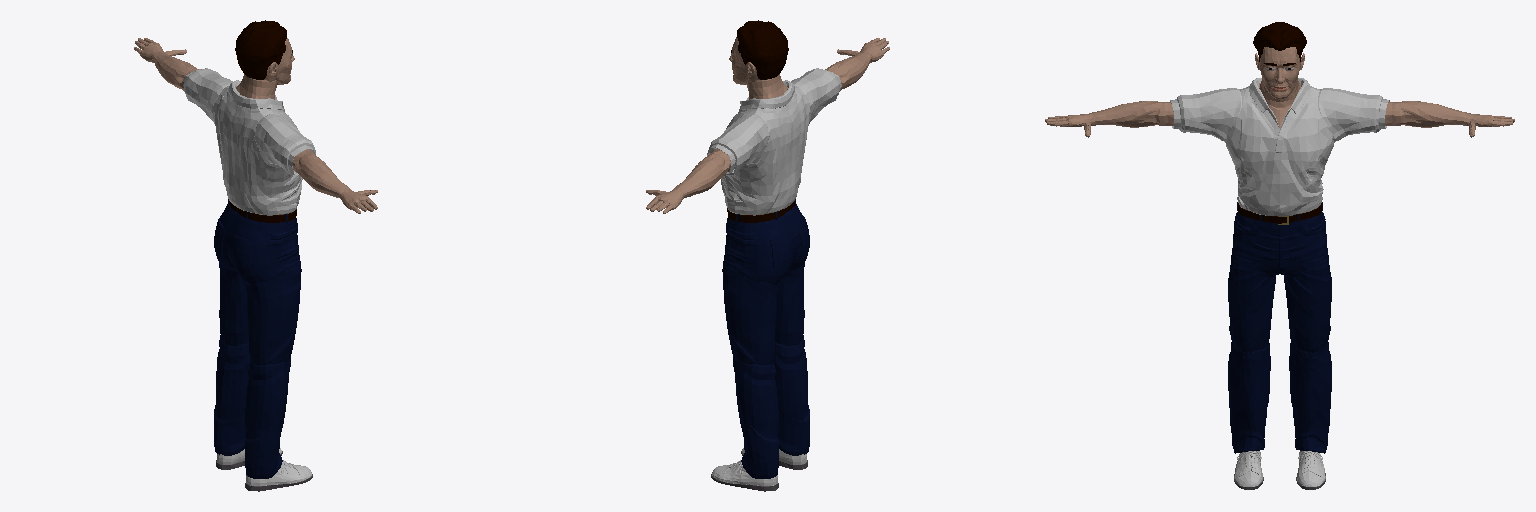
--- Facts derived from the render (not from the file) ---
The picture shows the robot from 3 angles, left to right: view 1: azimuth 30°, elevation 25°; view 2: azimuth 150°, elevation 25°; view 3: azimuth 270°, elevation 25°; orthographic projection.
Robot: HUMAN — 62 links, 61 joints (60 revolute, 1 fixed); root link base_link; default pose: every joint at zero.
Links seen in each view (by area): view 1: TorsoLink, HipsLink, RShinLink, RLegLink, LShinLink, HeadLink, RArmLink, LLegLink, LArmLink, RForearmLink, RAnkleLink, LForearmLink; view 2: TorsoLink, HipsLink, LShinLink, LLegLink, RShinLink, HeadLink, LArmLink, RLegLink, RArmLink, LForearmLink, LAnkleLink, RForearmLink; view 3: TorsoLink, HipsLink, LShinLink, RShinLink, RLegLink, LLegLink, HeadLink, RArmLink, LArmLink, LForearmLink, RForearmLink, LAnkleLink (+1 smaller).
Boxes of the visible links, x1=… form: TorsoLink: x1=213, y1=74, x2=302, y2=215; HipsLink: x1=214, y1=199, x2=300, y2=284; RShinLink: x1=245, y1=357, x2=290, y2=478; RLegLink: x1=244, y1=265, x2=301, y2=364; LShinLink: x1=214, y1=335, x2=250, y2=455; HeadLink: x1=235, y1=20, x2=294, y2=84; RArmLink: x1=254, y1=114, x2=315, y2=175; LLegLink: x1=219, y1=263, x2=248, y2=345; LArmLink: x1=183, y1=68, x2=232, y2=123; RForearmLink: x1=295, y1=153, x2=350, y2=198; RAnkleLink: x1=245, y1=460, x2=312, y2=491; LForearmLink: x1=152, y1=52, x2=195, y2=90; TorsoLink: x1=721, y1=74, x2=810, y2=215; HipsLink: x1=723, y1=199, x2=809, y2=284; LShinLink: x1=733, y1=357, x2=778, y2=478; LLegLink: x1=722, y1=265, x2=779, y2=364; RShinLink: x1=773, y1=335, x2=809, y2=455; HeadLink: x1=729, y1=20, x2=788, y2=84; LArmLink: x1=707, y1=114, x2=769, y2=174; RLegLink: x1=775, y1=263, x2=804, y2=345; RArmLink: x1=791, y1=68, x2=841, y2=123; LForearmLink: x1=673, y1=153, x2=728, y2=198; LAnkleLink: x1=711, y1=460, x2=778, y2=491; RForearmLink: x1=828, y1=52, x2=871, y2=90; TorsoLink: x1=1225, y1=64, x2=1334, y2=216; HipsLink: x1=1232, y1=202, x2=1327, y2=277; LShinLink: x1=1289, y1=342, x2=1331, y2=453; RShinLink: x1=1228, y1=342, x2=1270, y2=453; RLegLink: x1=1228, y1=255, x2=1275, y2=352; LLegLink: x1=1284, y1=255, x2=1331, y2=352; HeadLink: x1=1253, y1=22, x2=1306, y2=98; RArmLink: x1=1170, y1=88, x2=1241, y2=141; LArmLink: x1=1318, y1=88, x2=1389, y2=141; LForearmLink: x1=1396, y1=101, x2=1469, y2=127; RForearmLink: x1=1090, y1=101, x2=1163, y2=127; LAnkleLink: x1=1296, y1=451, x2=1325, y2=489.
Bounding box of the posed robot: 0.2779 × 1.61 × 1.69 m (x, y, z).
47 mesh visuals loaded from 47 distinct referenced files (47 Collada DAE).

The robot description file, URDF, robot "HUMAN":
<?xml version="1.0" ?>
<robot name="HUMAN" xmlns:xacro="http://ros.org/wiki/xacro">
  
  <link name="base_link"/>

  <joint name="base" type="fixed">
    <parent link="base_link"/>
    <child link="HipsLink"/>
    <origin rpy="0 0 0" xyz="0 0 0.987"/>
  </joint>

  <!-- Body Links -->
  <link name="HipsLink">
    <inertial>
      <origin rpy="0 0 0" xyz="-0.0232 0.0 -0.1192"/>
      <mass value="20.9238"/>
      <inertia ixx="-0.3225" ixy="-0.0" ixz="-0.0" iyy="0.0" iyz="0.2362" izz="0.0"/>
    </inertial>
    <visual>
      <origin rpy="0 0 0" xyz="0 0 0"/>
      <geometry>
        <mesh filename="package://human_description/meshes/HipsLinkFull.dae"/>
      </geometry>
    </visual>
    <collision>
      <origin rpy="0 0 0" xyz="0 0 0"/>
      <geometry>
        <mesh filename="package://human_description/meshes/HipsLinkFull.dae"/>
      </geometry>
    </collision>
  </link>

  <link name="TorsoLink">
    <inertial>
      <origin rpy="0 0 0" xyz="-0.1334 0.1949 0.4701"/>
      <mass value="10.7790"/>
      <inertia ixx="-0.3481" ixy="-0.0" ixz="-0.0" iyy="0.0" iyz="0.2709" izz="0.0"/>
    </inertial>
    <visual>
      <origin rpy="0 0 0" xyz="0 0 0"/>
      <geometry>
        <mesh filename="package://human_description/meshes/TorsoLinkFull.dae"/>
      </geometry>
    </visual>
    <collision>
      <origin rpy="0 0 0" xyz="0 0 0"/>
      <geometry>
        <mesh filename="package://human_description/meshes/TorsoLinkFull.dae"/>
      </geometry>
    </collision>
  </link>

  <link name="HeadLink">
    <inertial>
      <origin rpy="0 0 0" xyz="0.0459 0.0133 0.0433"/>
      <mass value="4.7372"/>
      <inertia ixx="-0.1891" ixy="-0.0" ixz="-0.0" iyy="0.0" iyz="0.1891" izz="0.0"/>
    </inertial>
    <visual>
      <origin rpy="0 0 0" xyz="0 0 0"/>
      <geometry>
        <mesh filename="package://human_description/meshes/HeadLinkFull.dae"/>
      </geometry>
    </visual>
    <collision>
      <origin rpy="0 0 0" xyz="0 0 0"/>
      <geometry>
        <mesh filename="package://human_description/meshes/HeadLinkFull.dae"/>
      </geometry>
    </collision>
  </link>

  <link name="LArmLink">
    <inertial>
      <origin rpy="0 0 0" xyz="-0.0 0.1328 0.0"/>
      <mass value="1.96"/>
      <inertia ixx="-0.3475" ixy="-0.0" ixz="-0.0" iyy="0.0" iyz="0.6719" izz="0.0"/>
    </inertial>
    <visual>
      <origin rpy="0 0 0" xyz="0 0 0"/>
      <geometry>
        <mesh filename="package://human_description/meshes/LArmLinkFull.dae"/>
      </geometry>
    </visual>
    <collision>
      <origin rpy="0 0 0" xyz="0 0 0"/>
      <geometry>
        <mesh filename="package://human_description/meshes/LArmLinkFull.dae"/>
      </geometry>
    </collision>
  </link>

  <link name="LElbowLink">
    <inertial>
      <origin rpy="0 0 0" xyz="0.000513 0.034528 -0.000934"/>
      <mass value="0.25"/>
      <inertia ixx="-5.9e-05" ixy="-0.0" ixz="-0.0" iyy="0.0" iyz="8e-05" izz="0.0"/>
    </inertial>
    <visual>
      <origin rpy="0 0 0" xyz="0 0 0"/>
      <geometry>
        <mesh filename="package://human_description/meshes/LElbowLink.dae"/>
      </geometry>
    </visual>
    <collision>
      <origin rpy="0 0 0" xyz="0 0 0"/>
      <geometry>
        <mesh filename="package://human_description/meshes/LElbowLink.dae"/>
      </geometry>
    </collision>
  </link>

  <link name="LForearmLink">
    <inertial>
      <origin rpy="0 0 0" xyz="-0.0 0.15114 0.0"/>
      <mass value="1.18"/>
      <inertia ixx="-0.0753" ixy="-0.0" ixz="-0.0" iyy="0.0" iyz="0.1326" izz="0.0"/>
    </inertial>
    <visual>
      <origin rpy="0 0 0" xyz="0 0 0"/>
      <geometry>
        <mesh filename="package://human_description/meshes/LForearmLink.dae"/>
      </geometry>
    </visual>
    <collision>
      <origin rpy="0 0 0" xyz="0 0 0"/>
      <geometry>
        <mesh filename="package://human_description/meshes/LForearmLink.dae"/>
      </geometry>
    </collision>
  </link>

  <link name="LHandLink">
    <inertial>
      <origin rpy="0 0 0" xyz="0.0139 0.042 -0.0128"/>
      <mass value="0.272"/>
      <inertia ixx="-0.00029946" ixy="-0.0" ixz="-0.0" iyy="0.0" iyz="0.00019118" izz="0.0"/>
    </inertial>
    <visual>
      <origin rpy="0 0 0" xyz="0 0 0"/>
      <geometry>
        <mesh filename="package://human_description/meshes/LWrist.dae"/>
      </geometry>
    </visual>
    <collision>
      <origin rpy="0 0 0" xyz="0 0 0"/>
      <geometry>
        <mesh filename="package://human_description/meshes/LWrist.dae"/>
      </geometry>
    </collision>
  </link>

  <link name="RArmLink">
    <inertial>
      <origin rpy="0 0 0" xyz="-0.0 -0.1328 0.0"/>
      <mass value="1.96"/>
      <inertia ixx="-0.3475" ixy="-0.0" ixz="-0.0" iyy="0.0" iyz="0.6719" izz="0.0"/>
    </inertial>
    <visual>
      <origin rpy="0 0 0" xyz="0 0 0"/>
      <geometry>
        <mesh filename="package://human_description/meshes/RArmLinkFull.dae"/>
      </geometry>
    </visual>
    <collision>
      <origin rpy="0 0 0" xyz="0 0 0"/>
      <geometry>
        <mesh filename="package://human_description/meshes/RArmLinkFull.dae"/>
      </geometry>
    </collision>
  </link>

  <link name="RElbowLink">
    <inertial>
      <origin rpy="0 0 0" xyz="0.000513 -0.034528 -0.000934"/>
      <mass value="0.25"/>
      <inertia ixx="-5.9e-05" ixy="-0.0" ixz="-0.0" iyy="0.0" iyz="8e-05" izz="0.0"/>
    </inertial>
    <visual>
      <origin rpy="0 0 0" xyz="0 0 0"/>
      <geometry>
        <mesh filename="package://human_description/meshes/RElbowLink.dae"/>
      </geometry>
    </visual>
    <collision>
      <origin rpy="0 0 0" xyz="0 0 0"/>
      <geometry>
        <mesh filename="package://human_description/meshes/RElbowLink.dae"/>
      </geometry>
    </collision>
  </link>

  <link name="RForearmLink">
    <inertial>
      <origin rpy="0 0 0" xyz="-0.0 -0.15114 0.0"/>
      <mass value="1.18"/>
      <inertia ixx="-0.0753" ixy="-0.0" ixz="-0.0" iyy="0.0" iyz="0.1326" izz="0.0"/>
    </inertial>
    <visual>
      <origin rpy="0 0 0" xyz="0 0 0"/>
      <geometry>
        <mesh filename="package://human_description/meshes/RForearmLink.dae"/>
      </geometry>
    </visual>
    <collision>
      <origin rpy="0 0 0" xyz="0 0 0"/>
      <geometry>
        <mesh filename="package://human_description/meshes/RForearmLink.dae"/>
      </geometry>
    </collision>
  </link>

  <link name="RHandLink">
    <inertial>
      <origin rpy="0 0 0" xyz="0.0139 -0.042 -0.0128"/>
      <mass value="0.272"/>
      <inertia ixx="-0.00029946" ixy="-0.0" ixz="-0.0" iyy="0.0" iyz="0.00019118" izz="0.0"/>
    </inertial>
    <visual>
      <origin rpy="0 0 0" xyz="0 0 0"/>
      <geometry>
        <mesh filename="package://human_description/meshes/RWrist.dae"/>
      </geometry>
    </visual>
    <collision>
      <origin rpy="0 0 0" xyz="0 0 0"/>
      <geometry>
        <mesh filename="package://human_description/meshes/RWrist.dae"/>
      </geometry>
    </collision>
  </link>

  <link name="LLegLink">
    <inertial>
      <origin rpy="0 0 0" xyz="-0.0185 -0.0071 -0.178"/>
      <mass value="6.51"/>
      <inertia ixx="-0.1264" ixy="-0.0" ixz="-0.0" iyy="0.0" iyz="0.1264" izz="0.0"/>
    </inertial>
    <visual>
      <origin rpy="0 0 0" xyz="0 0 0"/>
      <geometry>
        <mesh filename="package://human_description/meshes/LLegLink.dae"/>
      </geometry>
    </visual>
    <collision>
      <origin rpy="0 0 0" xyz="0 0 0"/>
      <geometry>
        <mesh filename="package://human_description/meshes/LLegLink.dae"/>
      </geometry>
    </collision>
  </link>

  <link name="LShinLink">
    <inertial>
      <origin rpy="0 0 0" xyz="-0.0131 0.0025 0.0346"/>
      <mass value="3.095"/>
      <inertia ixx="-0.0632" ixy="-0.0" ixz="-0.0" iyy="0.0" iyz="0.0632" izz="0.0"/>
    </inertial>
    <visual>
      <origin rpy="0 0 0" xyz="0 0 0"/>
      <geometry>
        <mesh filename="package://human_description/meshes/LShinLink.dae"/>
      </geometry>
    </visual>
    <collision>
      <origin rpy="0 0 0" xyz="0 0 0"/>
      <geometry>
        <mesh filename="package://human_description/meshes/LShinLink.dae"/>
      </geometry>
    </collision>
  </link>

  <link name="LAnkleLink">
    <inertial>
      <origin rpy="0 0 0" xyz="0.0508 0.0067 -0.0646"/>
      <mass value="0.99"/>
      <inertia ixx="-0.0015" ixy="-0.0" ixz="-0.0" iyy="0.0" iyz="0.0059" izz="0.0"/>
    </inertial>
    <visual>
      <origin rpy="0 0 0" xyz="0 0 0"/>
      <geometry>
        <mesh filename="package://human_description/meshes/LAnkleLinkFull.dae"/>
      </geometry>
    </visual>
    <collision>
      <origin rpy="0 0 0" xyz="0 0 0"/>
      <geometry>
        <mesh filename="package://human_description/meshes/LAnkleLinkFull.dae"/>
      </geometry>
    </collision>
  </link>

  <link name="RLegLink">
    <inertial>
      <origin rpy="0 0 0" xyz="-0.0185 -0.0071 -0.178"/>
      <mass value="6.51"/>
      <inertia ixx="-0.1264" ixy="-0.0" ixz="-0.0" iyy="0.0" iyz="0.1264" izz="0.0"/>
    </inertial>
    <visual>
      <origin rpy="0 0 0" xyz="0 0 0"/>
      <geometry>
        <mesh filename="package://human_description/meshes/RLegLink.dae"/>
      </geometry>
    </visual>
    <collision>
      <origin rpy="0 0 0" xyz="0 0 0"/>
      <geometry>
        <mesh filename="package://human_description/meshes/RLegLink.dae"/>
      </geometry>
    </collision>
  </link>

  <link name="RShinLink">
    <inertial>
      <origin rpy="0 0 0" xyz="-0.0131 0.0025 0.0346"/>
      <mass value="3.095"/>
      <inertia ixx="-0.0632" ixy="-0.0" ixz="-0.0" iyy="0.0" iyz="0.0632" izz="0.0"/>
    </inertial>
    <visual>
      <origin rpy="0 0 0" xyz="0 0 0"/>
      <geometry>
        <mesh filename="package://human_description/meshes/RShinLink.dae"/>
      </geometry>
    </visual>
    <collision>
      <origin rpy="0 0 0" xyz="0 0 0"/>
      <geometry>
        <mesh filename="package://human_description/meshes/RShinLink.dae"/>
      </geometry>
    </collision>
  </link>

  <link name="RAnkleLink">
    <inertial>
      <origin rpy="0 0 0" xyz="0.0508 -0.0067 -0.0646"/>
      <mass value="0.99"/>
      <inertia ixx="-0.0015" ixy="-0.0" ixz="-0.0" iyy="0.0" iyz="0.0059" izz="0.0"/>
    </inertial>
    <visual>
      <origin rpy="0 0 0" xyz="0 0 0"/>
      <geometry>
        <mesh filename="package://human_description/meshes/RAnkleLinkFull.dae"/>
      </geometry>
    </visual>
    <collision>
      <origin rpy="0 0 0" xyz="0 0 0"/>
      <geometry>
        <mesh filename="package://human_description/meshes/RAnkleLinkFull.dae"/>
      </geometry>
    </collision>
  </link>

  <!-- Left hand fingers links -->
  <link name="LHandThumb0Link">
    <inertial>
      <origin rpy="0 0 0" xyz="0.019337 0.003385 -0.004077"/>
      <mass value="0.0182"/>
      <inertia ixx="-9e-06" ixy="-0.0" ixz="-0.0" iyy="0.0" iyz="1e-05" izz="0.0"/>
    </inertial>
    <visual>
      <origin rpy="0 0 0" xyz="0 0 0"/>
      <geometry>
        <mesh filename="package://human_description/meshes/LThumb0thPhalange.dae"/>
      </geometry>
    </visual>
    <collision>
      <origin rpy="0 0 0" xyz="0 0 0"/>
      <geometry>
        <mesh filename="package://human_description/meshes/LThumb0thPhalange.dae"/>
      </geometry>
    </collision>
  </link>
  <link name="LHandThumb1Link">
    <inertial>
      <origin rpy="0 0 0" xyz="0.01028 0.001082 0.002081"/>
      <mass value="0.0182"/>
      <inertia ixx="-4e-06" ixy="-0.0" ixz="-0.0" iyy="0.0" iyz="4e-06" izz="0.0"/>
    </inertial>
    <visual>
      <origin rpy="0 0 0" xyz="0 0 0"/>
      <geometry>
        <mesh filename="package://human_description/meshes/LThumb1stPhalange.dae"/>
      </geometry>
    </visual>
    <collision>
      <origin rpy="0 0 0" xyz="0 0 0"/>
      <geometry>
        <mesh filename="package://human_description/meshes/LThumb1stPhalange.dae"/>
      </geometry>
    </collision>
  </link>
  <link name="LHandThumb2Link">
    <inertial>
      <origin rpy="0 0 0" xyz="0.016873 0.000626 -0.001112"/>
      <mass value="0.0182"/>
      <inertia ixx="-4e-06" ixy="-0.0" ixz="-0.0" iyy="0.0" iyz="4e-06" izz="0.0"/>
    </inertial>
    <visual>
      <origin rpy="0 0 0" xyz="0 0 0"/>
      <geometry>
        <mesh filename="package://human_description/meshes/LThumb2ndPhalange.dae"/>
      </geometry>
    </visual>
    <collision>
      <origin rpy="0 0 0" xyz="0 0 0"/>
      <geometry>
        <mesh filename="package://human_description/meshes/LThumb2ndPhalange.dae"/>
      </geometry>
    </collision>
  </link>
  <link name="LHandIndex1Link">
    <inertial>
      <origin rpy="0 0 0" xyz="-0.001367 0.01696 0.001019"/>
      <mass value="0.0182"/>
      <inertia ixx="-5e-06" ixy="-0.0" ixz="-0.0" iyy="0.0" iyz="5e-06" izz="0.0"/>
    </inertial>
    <visual>
      <origin rpy="0 0 0" xyz="0 0 0"/>
      <geometry>
        <mesh filename="package://human_description/meshes/LIndex1stPhalange.dae"/>
      </geometry>
    </visual>
    <collision>
      <origin rpy="0 0 0" xyz="0 0 0"/>
      <geometry>
        <mesh filename="package://human_description/meshes/LIndex1stPhalange.dae"/>
      </geometry>
    </collision>
  </link>
  <link name="LHandIndex2Link">
    <inertial>
      <origin rpy="0 0 0" xyz="0.000441 0.009184 0.000856"/>
      <mass value="0.0182"/>
      <inertia ixx="-3e-06" ixy="-0.0" ixz="-0.0" iyy="0.0" iyz="3e-06" izz="0.0"/>
    </inertial>
    <visual>
      <origin rpy="0 0 0" xyz="0 0 0"/>
      <geometry>
        <mesh filename="package://human_description/meshes/LIndex2ndPhalange.dae"/>
      </geometry>
    </visual>
    <collision>
      <origin rpy="0 0 0" xyz="0 0 0"/>
      <geometry>
        <mesh filename="package://human_description/meshes/LIndex2ndPhalange.dae"/>
      </geometry>
    </collision>
  </link>
  <link name="LHandIndex3Link">
    <inertial>
      <origin rpy="0 0 0" xyz="-0.001129 0.010116 0.001347"/>
      <mass value="0.0182"/>
      <inertia ixx="-2e-06" ixy="-0.0" ixz="-0.0" iyy="0.0" iyz="2e-06" izz="0.0"/>
    </inertial>
    <visual>
      <origin rpy="0 0 0" xyz="0 0 0"/>
      <geometry>
        <mesh filename="package://human_description/meshes/LIndex3rdPhalange.dae"/>
      </geometry>
    </visual>
    <collision>
      <origin rpy="0 0 0" xyz="0 0 0"/>
      <geometry>
        <mesh filename="package://human_description/meshes/LIndex3rdPhalange.dae"/>
      </geometry>
    </collision>
  </link>
  <link name="LHandMiddle1Link">
    <inertial>
      <origin rpy="0 0 0" xyz="-0.000126 0.013279 0.000876"/>
      <mass value="0.0182"/>
      <inertia ixx="-3e-06" ixy="-0.0" ixz="-0.0" iyy="0.0" iyz="4e-06" izz="0.0"/>
    </inertial>
    <visual>
      <origin rpy="0 0 0" xyz="0 0 0"/>
      <geometry>
        <mesh filename="package://human_description/meshes/LMiddle1stPhalange.dae"/>
      </geometry>
    </visual>
    <collision>
      <origin rpy="0 0 0" xyz="0 0 0"/>
      <geometry>
        <mesh filename="package://human_description/meshes/LMiddle1stPhalange.dae"/>
      </geometry>
    </collision>
  </link>
  <link name="LHandMiddle2Link">
    <inertial>
      <origin rpy="0 0 0" xyz="-0.000232 0.010285 0.001535"/>
      <mass value="0.0182"/>
      <inertia ixx="-3e-06" ixy="-0.0" ixz="-0.0" iyy="0.0" iyz="3e-06" izz="0.0"/>
    </inertial>
    <visual>
      <origin rpy="0 0 0" xyz="0 0 0"/>
      <geometry>
        <mesh filename="package://human_description/meshes/LMiddle2ndPhalange.dae"/>
      </geometry>
    </visual>
    <collision>
      <origin rpy="0 0 0" xyz="0 0 0"/>
      <geometry>
        <mesh filename="package://human_description/meshes/LMiddle2ndPhalange.dae"/>
      </geometry>
    </collision>
  </link>
  <link name="LHandMiddle3Link">
    <inertial>
      <origin rpy="0 0 0" xyz="-0.000228 0.009327 0.001888"/>
      <mass value="0.0182"/>
      <inertia ixx="-2e-06" ixy="-0.0" ixz="-0.0" iyy="0.0" iyz="2e-06" izz="0.0"/>
    </inertial>
    <visual>
      <origin rpy="0 0 0" xyz="0 0 0"/>
      <geometry>
        <mesh filename="package://human_description/meshes/LMiddle3rdPhalange.dae"/>
      </geometry>
    </visual>
    <collision>
      <origin rpy="0 0 0" xyz="0 0 0"/>
      <geometry>
        <mesh filename="package://human_description/meshes/LMiddle3rdPhalange.dae"/>
      </geometry>
    </collision>
  </link>
  <link name="LHandRing1Link">
    <inertial>
      <origin rpy="0 0 0" xyz="-0.001164 0.011568 -0.002292"/>
      <mass value="0.0182"/>
      <inertia ixx="-3e-06" ixy="-0.0" ixz="-0.0" iyy="0.0" iyz="4e-06" izz="0.0"/>
    </inertial>
    <visual>
      <origin rpy="0 0 0" xyz="0 0 0"/>
      <geometry>
        <mesh filename="package://human_description/meshes/LRing1stPhalange.dae"/>
      </geometry>
    </visual>
    <collision>
      <origin rpy="0 0 0" xyz="0 0 0"/>
      <geometry>
        <mesh filename="package://human_description/meshes/LRing1stPhalange.dae"/>
      </geometry>
    </collision>
  </link>
  <link name="LHandRing2Link">
    <inertial>
      <origin rpy="0 0 0" xyz="-0.000672 0.011883 0.001817"/>
      <mass value="0.0182"/>
      <inertia ixx="-3e-06" ixy="-0.0" ixz="-0.0" iyy="0.0" iyz="3e-06" izz="0.0"/>
    </inertial>
    <visual>
      <origin rpy="0 0 0" xyz="0 0 0"/>
      <geometry>
        <mesh filename="package://human_description/meshes/LRing2ndPhalange.dae"/>
      </geometry>
    </visual>
    <collision>
      <origin rpy="0 0 0" xyz="0 0 0"/>
      <geometry>
        <mesh filename="package://human_description/meshes/LRing2ndPhalange.dae"/>
      </geometry>
    </collision>
  </link>
  <link name="LHandRing3Link">
    <inertial>
      <origin rpy="0 0 0" xyz="0.000957 0.007793 0.000943"/>
      <mass value="0.0182"/>
      <inertia ixx="-1e-06" ixy="-0.0" ixz="-0.0" iyy="0.0" iyz="2e-06" izz="0.0"/>
    </inertial>
    <visual>
      <origin rpy="0 0 0" xyz="0 0 0"/>
      <geometry>
        <mesh filename="package://human_description/meshes/LRing3rdPhalange.dae"/>
      </geometry>
    </visual>
    <collision>
      <origin rpy="0 0 0" xyz="0 0 0"/>
      <geometry>
        <mesh filename="package://human_description/meshes/LRing3rdPhalange.dae"/>
      </geometry>
    </collision>
  </link>
  <link name="LHandBaby1Link">
    <inertial>
      <origin rpy="0 0 0" xyz="-0.000982 0.009799 0.000912"/>
      <mass value="0.0182"/>
      <inertia ixx="-2e-06" ixy="-0.0" ixz="-0.0" iyy="0.0" iyz="3e-06" izz="0.0"/>
    </inertial>
    <visual>
      <origin rpy="0 0 0" xyz="0 0 0"/>
      <geometry>
        <mesh filename="package://human_description/meshes/LBaby1stPhalange.dae"/>
      </geometry>
    </visual>
    <collision>
      <origin rpy="0 0 0" xyz="0 0 0"/>
      <geometry>
        <mesh filename="package://human_description/meshes/LBaby1stPhalange.dae"/>
      </geometry>
    </collision>
  </link>
  <link name="LHandBaby2Link">
    <inertial>
      <origin rpy="0 0 0" xyz="-0.000602 0.009315 0.001953"/>
      <mass value="0.0182"/>
      <inertia ixx="-2e-06" ixy="-0.0" ixz="-0.0" iyy="0.0" iyz="2e-06" izz="0.0"/>
    </inertial>
    <visual>
      <origin rpy="0 0 0" xyz="0 0 0"/>
      <geometry>
        <mesh filename="package://human_description/meshes/LBaby2ndPhalange.dae"/>
      </geometry>
    </visual>
    <collision>
      <origin rpy="0 0 0" xyz="0 0 0"/>
      <geometry>
        <mesh filename="package://human_description/meshes/LBaby2ndPhalange.dae"/>
      </geometry>
    </collision>
  </link>
  <link name="LHandBaby3Link">
    <inertial>
      <origin rpy="0 0 0" xyz="-0.018741 0.030511 0.01986"/>
      <mass value="0.0182"/>
      <inertia ixx="-1.9e-05" ixy="-0.0" ixz="-0.0" iyy="0.0" iyz="2.5e-05" izz="0.0"/>
    </inertial>
    <visual>
      <origin rpy="0 0 0" xyz="0 0 0"/>
      <geometry>
        <mesh filename="package://human_description/meshes/LBaby3rdPhalange.dae"/>
      </geometry>
    </visual>
    <collision>
      <origin rpy="0 0 0" xyz="0 0 0"/>
      <geometry>
        <mesh filename="package://human_description/meshes/LBaby3rdPhalange.dae"/>
      </geometry>
    </collision>
  </link>

  <!-- Right hand fingers links -->
  <link name="RHandThumb0Link">
    <inertial>
      <origin rpy="0 0 0" xyz="0.019337 -0.003385 -0.004077"/>
      <mass value="0.0182"/>
      <inertia ixx="-9e-06" ixy="-0.0" ixz="-0.0" iyy="0.0" iyz="1e-05" izz="0.0"/>
    </inertial>
    <visual>
      <origin rpy="0 0 0" xyz="0 0 0"/>
      <geometry>
        <mesh filename="package://human_description/meshes/RThumb0thPhalange.dae"/>
      </geometry>
    </visual>
    <collision>
      <origin rpy="0 0 0" xyz="0 0 0"/>
      <geometry>
        <mesh filename="package://human_description/meshes/RThumb0thPhalange.dae"/>
      </geometry>
    </collision>
  </link>
  <link name="RHandThumb1Link">
    <inertial>
      <origin rpy="0 0 0" xyz="0.01028 -0.001082 0.002081"/>
      <mass value="0.0182"/>
      <inertia ixx="-4e-06" ixy="-0.0" ixz="-0.0" iyy="0.0" iyz="4e-06" izz="0.0"/>
    </inertial>
    <visual>
      <origin rpy="0 0 0" xyz="0 0 0"/>
      <geometry>
        <mesh filename="package://human_description/meshes/RThumb1stPhalange.dae"/>
      </geometry>
    </visual>
    <collision>
      <origin rpy="0 0 0" xyz="0 0 0"/>
      <geometry>
        <mesh filename="package://human_description/meshes/RThumb1stPhalange.dae"/>
      </geometry>
    </collision>
  </link>
  <link name="RHandThumb2Link">
    <inertial>
      <origin rpy="0 0 0" xyz="0.016873 -0.000626 -0.001112"/>
      <mass value="0.0182"/>
      <inertia ixx="-4e-06" ixy="-0.0" ixz="-0.0" iyy="0.0" iyz="4e-06" izz="0.0"/>
    </inertial>
    <visual>
      <origin rpy="0 0 0" xyz="0 0 0"/>
      <geometry>
        <mesh filename="package://human_description/meshes/RThumb2ndPhalange.dae"/>
      </geometry>
    </visual>
    <collision>
      <origin rpy="0 0 0" xyz="0 0 0"/>
      <geometry>
        <mesh filename="package://human_description/meshes/RThumb2ndPhalange.dae"/>
      </geometry>
    </collision>
  </link>
  <link name="RHandIndex1Link">
    <inertial>
      <origin rpy="0 0 0" xyz="-0.001367 -0.01696 0.001019"/>
      <mass value="0.0182"/>
      <inertia ixx="-5e-06" ixy="-0.0" ixz="-0.0" iyy="0.0" iyz="5e-06" izz="0.0"/>
    </inertial>
    <visual>
      <origin rpy="0 0 0" xyz="0 0 0"/>
      <geometry>
        <mesh filename="package://human_description/meshes/RIndex1stPhalange.dae"/>
      </geometry>
    </visual>
    <collision>
      <origin rpy="0 0 0" xyz="0 0 0"/>
      <geometry>
        <mesh filename="package://human_description/meshes/RIndex1stPhalange.dae"/>
      </geometry>
    </collision>
  </link>
  <link name="RHandIndex2Link">
    <inertial>
      <origin rpy="0 0 0" xyz="0.000441 -0.009184 0.000856"/>
      <mass value="0.0182"/>
      <inertia ixx="-3e-06" ixy="-0.0" ixz="-0.0" iyy="0.0" iyz="3e-06" izz="0.0"/>
    </inertial>
    <visual>
      <origin rpy="0 0 0" xyz="0 0 0"/>
      <geometry>
        <mesh filename="package://human_description/meshes/RIndex2ndPhalange.dae"/>
      </geometry>
    </visual>
    <collision>
      <origin rpy="0 0 0" xyz="0 0 0"/>
      <geometry>
        <mesh filename="package://human_description/meshes/RIndex2ndPhalange.dae"/>
      </geometry>
    </collision>
  </link>
  <link name="RHandIndex3Link">
    <inertial>
      <origin rpy="0 0 0" xyz="-0.001129 -0.010116 0.001347"/>
      <mass value="0.0182"/>
      <inertia ixx="-2e-06" ixy="-0.0" ixz="-0.0" iyy="0.0" iyz="2e-06" izz="0.0"/>
    </inertial>
    <visual>
      <origin rpy="0 0 0" xyz="0 0 0"/>
      <geometry>
        <mesh filename="package://human_description/meshes/RIndex3rdPhalange.dae"/>
      </geometry>
    </visual>
    <collision>
      <origin rpy="0 0 0" xyz="0 0 0"/>
      <geometry>
        <mesh filename="package://human_description/meshes/RIndex3rdPhalange.dae"/>
      </geometry>
    </collision>
  </link>
  <link name="RHandMiddle1Link">
    <inertial>
      <origin rpy="0 0 0" xyz="-0.000126 -0.013279 0.000876"/>
      <mass value="0.0182"/>
      <inertia ixx="-3e-06" ixy="-0.0" ixz="-0.0" iyy="0.0" iyz="4e-06" izz="0.0"/>
    </inertial>
    <visual>
      <origin rpy="0 0 0" xyz="0 0 0"/>
      <geometry>
        <mesh filename="package://human_description/meshes/RMiddle1stPhalange.dae"/>
      </geometry>
    </visual>
    <collision>
      <origin rpy="0 0 0" xyz="0 0 0"/>
      <geometry>
        <mesh filename="package://human_description/meshes/RMiddle1stPhalange.dae"/>
      </geometry>
    </collision>
  </link>
  <link name="RHandMiddle2Link">
    <inertial>
      <origin rpy="0 0 0" xyz="-0.000232 -0.010285 0.001535"/>
      <mass value="0.0182"/>
      <inertia ixx="-3e-06" ixy="-0.0" ixz="-0.0" iyy="0.0" iyz="3e-06" izz="0.0"/>
    </inertial>
    <visual>
      <origin rpy="0 0 0" xyz="0 0 0"/>
      <geometry>
        <mesh filename="package://human_description/meshes/RMiddle2ndPhalange.dae"/>
      </geometry>
    </visual>
    <collision>
      <origin rpy="0 0 0" xyz="0 0 0"/>
      <geometry>
        <mesh filename="package://human_description/meshes/RMiddle2ndPhalange.dae"/>
      </geometry>
    </collision>
  </link>
  <link name="RHandMiddle3Link">
    <inertial>
      <origin rpy="0 0 0" xyz="-0.000228 -0.009327 0.001888"/>
      <mass value="0.0182"/>
      <inertia ixx="-2e-06" ixy="-0.0" ixz="-0.0" iyy="0.0" iyz="2e-06" izz="0.0"/>
    </inertial>
    <visual>
      <origin rpy="0 0 0" xyz="0 0 0"/>
      <geometry>
        <mesh filename="package://human_description/meshes/RMiddle3rdPhalange.dae"/>
      </geometry>
    </visual>
    <collision>
      <origin rpy="0 0 0" xyz="0 0 0"/>
      <geometry>
        <mesh filename="package://human_description/meshes/RMiddle3rdPhalange.dae"/>
      </geometry>
    </collision>
  </link>
  <link name="RHandRing1Link">
    <inertial>
      <origin rpy="0 0 0" xyz="-0.001164 -0.011568 -0.002292"/>
      <mass value="0.0182"/>
      <inertia ixx="-3e-06" ixy="-0.0" ixz="-0.0" iyy="0.0" iyz="4e-06" izz="0.0"/>
    </inertial>
    <visual>
      <origin rpy="0 0 0" xyz="0 0 0"/>
      <geometry>
        <mesh filename="package://human_description/meshes/RRing1stPhalange.dae"/>
      </geometry>
    </visual>
    <collision>
      <origin rpy="0 0 0" xyz="0 0 0"/>
      <geometry>
        <mesh filename="package://human_description/meshes/RRing1stPhalange.dae"/>
      </geometry>
    </collision>
  </link>
  <link name="RHandRing2Link">
    <inertial>
      <origin rpy="0 0 0" xyz="-0.000672 -0.011883 0.001817"/>
      <mass value="0.0182"/>
      <inertia ixx="-3e-06" ixy="-0.0" ixz="-0.0" iyy="0.0" iyz="3e-06" izz="0.0"/>
    </inertial>
    <visual>
      <origin rpy="0 0 0" xyz="0 0 0"/>
      <geometry>
        <mesh filename="package://human_description/meshes/RRing2ndPhalange.dae"/>
      </geometry>
    </visual>
    <collision>
      <origin rpy="0 0 0" xyz="0 0 0"/>
      <geometry>
        <mesh filename="package://human_description/meshes/RRing2ndPhalange.dae"/>
      </geometry>
    </collision>
  </link>
  <link name="RHandRing3Link">
    <inertial>
      <origin rpy="0 0 0" xyz="0.000957 -0.007793 0.000943"/>
      <mass value="0.0182"/>
      <inertia ixx="-1e-06" ixy="-0.0" ixz="-0.0" iyy="0.0" iyz="2e-06" izz="0.0"/>
    </inertial>
    <visual>
      <origin rpy="0 0 0" xyz="0 0 0"/>
      <geometry>
        <mesh filename="package://human_description/meshes/RRing3rdPhalange.dae"/>
      </geometry>
    </visual>
    <collision>
      <origin rpy="0 0 0" xyz="0 0 0"/>
      <geometry>
        <mesh filename="package://human_description/meshes/RRing3rdPhalange.dae"/>
      </geometry>
    </collision>
  </link>
  <link name="RHandBaby1Link">
    <inertial>
      <origin rpy="0 0 0" xyz="-0.000982 -0.009799 0.000912"/>
      <mass value="0.0182"/>
      <inertia ixx="-2e-06" ixy="-0.0" ixz="-0.0" iyy="0.0" iyz="3e-06" izz="0.0"/>
    </inertial>
    <visual>
      <origin rpy="0 0 0" xyz="0 0 0"/>
      <geometry>
        <mesh filename="package://human_description/meshes/RBaby1stPhalange.dae"/>
      </geometry>
    </visual>
    <collision>
      <origin rpy="0 0 0" xyz="0 0 0"/>
      <geometry>
        <mesh filename="package://human_description/meshes/RBaby1stPhalange.dae"/>
      </geometry>
    </collision>
  </link>
  <link name="RHandBaby2Link">
    <inertial>
      <origin rpy="0 0 0" xyz="-0.000602 -0.009315 0.001953"/>
      <mass value="0.0182"/>
      <inertia ixx="-2e-06" ixy="-0.0" ixz="-0.0" iyy="0.0" iyz="2e-06" izz="0.0"/>
    </inertial>
    <visual>
      <origin rpy="0 0 0" xyz="0 0 0"/>
      <geometry>
        <mesh filename="package://human_description/meshes/RBaby2ndPhalange.dae"/>
      </geometry>
    </visual>
    <collision>
      <origin rpy="0 0 0" xyz="0 0 0"/>
      <geometry>
        <mesh filename="package://human_description/meshes/RBaby2ndPhalange.dae"/>
      </geometry>
    </collision>
  </link>
  <link name="RHandBaby3Link">
    <inertial>
      <origin rpy="0 0 0" xyz="-0.018741 -0.030511 0.01986"/>
      <mass value="0.0182"/>
      <inertia ixx="-1.9e-05" ixy="-0.0" ixz="-0.0" iyy="0.0" iyz="2.5e-05" izz="0.0"/>
    </inertial>
    <visual>
      <origin rpy="0 0 0" xyz="0 0 0"/>
      <geometry>
        <mesh filename="package://human_description/meshes/RBaby3rdPhalange.dae"/>
      </geometry>
    </visual>
    <collision>
      <origin rpy="0 0 0" xyz="0 0 0"/>
      <geometry>
        <mesh filename="package://human_description/meshes/RBaby3rdPhalange.dae"/>
      </geometry>
    </collision>
  </link>

  <!-- Joints -->

  <!-- Hips to Torso : spherical -->
  <link name="hip2torso_1"/>
  <link name="hip2torso_2"/>

  <joint name="Torso_0" type="revolute">
    <parent link="HipsLink"/>
    <child link="hip2torso_1"/>
    <origin rpy="0.0 0.0 0.0" xyz="-0.0 0.0 0.0"/>
    <axis xyz="1 0 0"/>
    <limit effort="1" lower="-0.65" upper="0.65" velocity="1"/>
  </joint>

  <joint name="Torso_1" type="revolute">
    <parent link="hip2torso_1"/>
    <child link="hip2torso_2"/>
    <origin rpy="0.0 0.0 0.0" xyz="-0.0 0.0 0.0"/>
    <axis xyz="0 1 0"/>
    <limit effort="1" lower="-0.55" upper="2.9" velocity="1"/>
  </joint>

  <joint name="Torso_2" type="revolute">
    <parent link="hip2torso_2"/>
    <child link="TorsoLink"/>
    <origin rpy="0.0 0.0 0.0" xyz="-0.0 0.0 0.0"/>
    <axis xyz="0 0 1"/>
    <limit effort="1" lower="-0.7" upper="0.7" velocity="1"/>
  </joint>

  <!-- Torso to Head : spherical -->
  <link name="torso2head_1"/>
  <link name="torso2head_2"/>

  <joint name="Head_0" type="revolute">
    <parent link="TorsoLink"/>
    <child link="torso2head_1"/>
    <origin rpy="0.0 0.0 0.0" xyz="-0.025 0.0 0.525"/>
    <axis xyz="1 0 0"/>
    <limit effort="1" lower="-0.62" upper="0.62" velocity="1"/>
  </joint>

  <joint name="Head_1" type="revolute">
    <parent link="torso2head_1"/>
    <child link="torso2head_2"/>
    <origin rpy="0.0 0.0 0.0" xyz="-0.0 0.0 0.0"/>
    <axis xyz="0 1 0"/>
    <limit effort="1" lower="-0.45" upper="0.45" velocity="1"/>
  </joint>

  <joint name="Head_2" type="revolute">
    <parent link="torso2head_2"/>
    <child link="HeadLink"/>
    <origin rpy="0.0 0.0 0.0" xyz="-0.0 0.0 0.0"/>
    <axis xyz="0 0 1"/>
    <limit effort="1" lower="-1.1" upper="1.1" velocity="1"/>
  </joint>

  <!-- Torso to left Shoulder : spherical -->
  <link name="torso2lshoulder_1"/>
  <link name="torso2lshoulder_2"/>

  <joint name="LArm_0" type="revolute">
    <parent link="TorsoLink"/>
    <child link="torso2lshoulder_1"/>
    <origin rpy="0.0 0.0 0.0" xyz="-0.05 0.15 0.35"/>
    <axis xyz="1 0 0"/>
    <limit effort="1" lower="-1.42" upper="1.57" velocity="1"/>
  </joint>

  <joint name="LArm_1" type="revolute">
    <parent link="torso2lshoulder_1"/>
    <child link="torso2lshoulder_2"/>
    <origin rpy="0.0 0.0 0.0" xyz="-0.0 0.0 0.0"/>
    <axis xyz="0 1 0"/>
    <limit effort="1" lower="-1.2" upper="1.2" velocity="1"/>
  </joint>

  <joint name="LArm_2" type="revolute">
    <parent link="torso2lshoulder_2"/>
    <child link="LArmLink"/>
    <origin rpy="0.0 0.0 0.0" xyz="-0.0 0.0 0.0"/>
    <axis xyz="0 0 1"/>
    <limit effort="1" lower="-2.25" upper="0.78" velocity="1"/>
  </joint>


  <joint name="LElbow" type="revolute">
    <parent link="LArmLink"/>
    <child link="LElbowLink"/>
    <origin rpy="0.0 0.0 0.0" xyz="-0.0 0.2 0.0"/>
    <axis xyz="0 1 0"/>
    <limit effort="1" lower="-1.57" upper="1.0" velocity="1"/>
  </joint>


  <joint name="LForearm" type="revolute">
    <parent link="LElbowLink"/>
    <child link="LForearmLink"/>
    <origin rpy="0.0 0.0 0.0" xyz="-0.01 0.05 0.0"/>
    <axis xyz="0 0 1"/>
    <limit effort="1" lower="-2.5" upper="0.0" velocity="1"/>
  </joint>


  <!-- Forearm to left Wrist connection-->
  <link name="forearm2lwrist_1"/>

  <joint name="LWrist_0" type="revolute">
    <parent link="LForearmLink"/>
    <child link="forearm2lwrist_1"/>
    <origin rpy="0.0 0.0 0.0" xyz="0.01 0.24 -0.01"/>
    <axis xyz="1 0 0"/>
    <limit effort="1" lower="-1.5" upper="1.5" velocity="1"/>
  </joint>

  <joint name="LWrist_1" type="revolute">
    <parent link="forearm2lwrist_1"/>
    <child link="LHandLink"/>
    <origin rpy="0.0 0.0 0.0" xyz="0.0 0.0 0.0"/>
    <axis xyz="0 0 1"/>
    <limit effort="1" lower="-0.35" upper="0.35" velocity="1"/>
  </joint>


  <!-- Torso to right Shoulder : spherical -->
  <link name="torso2rshoulder_1"/>
  <link name="torso2rshoulder_2"/>

  <joint name="RArm_0" type="revolute">
    <parent link="TorsoLink"/>
    <child link="torso2rshoulder_1"/>
    <origin rpy="0.0 0.0 0.0" xyz="-0.05 -0.15 0.35"/>
    <axis xyz="1 0 0"/>
    <limit effort="1" lower="-1.42" upper="1.57" velocity="1"/>
  </joint>

  <joint name="RArm_1" type="revolute">
    <parent link="torso2rshoulder_1"/>
    <child link="torso2rshoulder_2"/>
    <origin rpy="0.0 0.0 0.0" xyz="-0.0 0.0 0.0"/>
    <axis xyz="0 1 0"/>
    <limit effort="1" lower="-1.2" upper="1.2" velocity="1"/>
  </joint>

  <joint name="RArm_2" type="revolute">
    <parent link="torso2rshoulder_2"/>
    <child link="RArmLink"/>
    <origin rpy="0.0 0.0 0.0" xyz="-0.0 0.0 0.0"/>
    <axis xyz="0 0 1"/>
    <limit effort="1" lower="-2.25" upper="0.78" velocity="1"/>
  </joint>


  <joint name="RElbow" type="revolute">
    <parent link="RArmLink"/>
    <child link="RElbowLink"/>
    <origin rpy="0.0 0.0 0.0" xyz="-0.0 -0.2 0.0"/>
    <axis xyz="0 1 0"/>
    <limit effort="1" lower="-1.57" upper="1.0" velocity="1"/>
  </joint>


  <joint name="RForearm" type="revolute">
    <parent link="RElbowLink"/>
    <child link="RForearmLink"/>
    <origin rpy="0.0 0.0 0.0" xyz="-0.01 -0.05 0.0"/>
    <axis xyz="0 0 1"/>
    <limit effort="1" lower="-2.5" upper="0.0" velocity="1"/>
  </joint>


  <!-- Forearm to right Wrist connection-->
  <link name="forearm2rwrist_1"/>

  <joint name="RWrist_0" type="revolute">
    <parent link="RForearmLink"/>
    <child link="forearm2rwrist_1"/>
    <origin rpy="0.0 0.0 0.0" xyz="0.01 -0.24 -0.01"/>
    <axis xyz="1 0 0"/>
    <limit effort="1" lower="-1.5" upper="1.5" velocity="1"/>
  </joint>

  <joint name="RWrist_1" type="revolute">
    <parent link="forearm2rwrist_1"/>
    <child link="RHandLink"/>
    <origin rpy="0.0 0.0 0.0" xyz="0.0 0.0 0.0"/>
    <axis xyz="0 0 1"/>
    <limit effort="1" lower="-0.35" upper="0.35" velocity="1"/>
  </joint>


  <!-- Torso to left Leg : spherical -->
  <link name="torso2lleg_1"/>
  <link name="torso2lleg_2"/>

  <joint name="LLeg_0" type="revolute">
    <parent link="HipsLink"/>
    <child link="torso2lleg_1"/>
    <origin rpy="0.0 0.0 0.0" xyz="-0.0 0.1 -0.15"/>
    <axis xyz="1 0 0"/>
    <limit effort="1" lower="-0.52" upper="0.87" velocity="1"/>
  </joint>

  <joint name="LLeg_1" type="revolute">
    <parent link="torso2lleg_1"/>
    <child link="torso2lleg_2"/>
    <origin rpy="0.0 0.0 0.0" xyz="0.0 0.0 0.0"/>
    <axis xyz="0 1 0"/>
    <limit effort="1" lower="-2.3" upper="0.52" velocity="1"/>
  </joint>

  <joint name="LLeg_2" type="revolute">
    <parent link="torso2lleg_2"/>
    <child link="LLegLink"/>
    <origin rpy="0.0 0.0 0.0" xyz="0.0 0.0 0.0"/>
    <axis xyz="0 0 1"/>
    <limit effort="1" lower="-0.8" upper="0.8" velocity="1"/>
  </joint>


  <joint name="LShin_0" type="revolute">
    <parent link="LLegLink"/>
    <child link="LShinLink"/>
    <origin rpy="0.0 0.0 0.0" xyz="-0.025 0.0 -0.35"/>
    <axis xyz="0 1 0"/>
    <limit effort="1" lower="0.0" upper="2.6" velocity="1"/>
  </joint>

  <joint name="LAnkle_0" type="revolute">
    <parent link="LShinLink"/>
    <child link="LAnkleLink"/>
    <origin rpy="0.0 0.0 0.0" xyz="-0.025 0.0 -0.375"/>
    <axis xyz="0 1 0"/>
    <limit effort="1" lower="-0.78" upper="1.3" velocity="1"/>
  </joint>


  <!-- Torso to right Leg : spherical -->
  <link name="torso2rleg_1"/>
  <link name="torso2rleg_2"/>

  <joint name="RLeg_0" type="revolute">
    <parent link="HipsLink"/>
    <child link="torso2rleg_1"/>
    <origin rpy="0.0 0.0 0.0" xyz="-0.0 -0.1 -0.15"/>
    <axis xyz="1 0 0"/>
    <limit effort="1" lower="-0.87" upper="0.52" velocity="1"/>
  </joint>

  <joint name="RLeg_1" type="revolute">
    <parent link="torso2rleg_1"/>
    <child link="torso2rleg_2"/>
    <origin rpy="0.0 0.0 0.0" xyz="0.0 0.0 0.0"/>
    <axis xyz="0 1 0"/>
    <limit effort="1" lower="-2.3" upper="0.52" velocity="1"/>
  </joint>

  <joint name="RLeg_2" type="revolute">
    <parent link="torso2rleg_2"/>
    <child link="RLegLink"/>
    <origin rpy="0.0 0.0 0.0" xyz="0.0 0.0 0.0"/>
    <axis xyz="0 0 1"/>
    <limit effort="1" lower="-0.8" upper="0.8" velocity="1"/>
  </joint>


  <joint name="RShin_0" type="revolute">
    <parent link="RLegLink"/>
    <child link="RShinLink"/>
    <origin rpy="0.0 0.0 0.0" xyz="-0.025 0.0 -0.35"/>
    <axis xyz="0 1 0"/>
    <limit effort="1" lower="0.0" upper="2.6" velocity="1"/>
  </joint>

  <joint name="RAnkle_0" type="revolute">
    <parent link="RShinLink"/>
    <child link="RAnkleLink"/>
    <origin rpy="0.0 0.0 0.0" xyz="-0.025 0.0 -0.375"/>
    <axis xyz="0 1 0"/>
    <limit effort="1" lower="-0.78" upper="1.3" velocity="1"/>
  </joint>


  <!-- Left hand finger joints -->
  <joint name="LHandThumbLink1" type="revolute">
    <parent link="LHandLink"/>
    <child link="LHandThumb0Link"/>
    <origin rpy="0.0 0.0 0.0" xyz="0.02 0.016 -0.016"/>
    <axis xyz="0 1 0"/>
    <limit effort="1" lower="0.0" upper="1.57" velocity="1"/>
  </joint>
  <joint name="LHandThumbLink2" type="revolute">
    <parent link="LHandThumb0Link"/>
    <child link="LHandThumb1Link"/>
    <origin rpy="0.0 0.0 0.0" xyz="0.045 0.0 0.0"/>
    <axis xyz="0 1 0"/>
    <limit effort="1" lower="0.0" upper="1.57" velocity="1"/>
  </joint>
  <joint name="LHandThumbLink3" type="revolute">
    <parent link="LHandThumb1Link"/>
    <child link="LHandThumb2Link"/>
    <origin rpy="0.0 0.0 0.0" xyz="0.026 0.0 0.0"/>
    <axis xyz="0 1 0"/>
    <limit effort="1" lower="0.0" upper="1.57" velocity="1"/>
  </joint>
  <joint name="LHandIndexLink1" type="revolute">
    <parent link="LHandLink"/>
    <child link="LHandIndex1Link"/>
    <origin rpy="0.0 0.0 0.0" xyz="0.0425 0.078 -0.01"/>
    <axis xyz="-1 0 0"/>
    <limit effort="1" lower="0.0" upper="1.57" velocity="1"/>
  </joint>
  <joint name="LHandIndexLink2" type="revolute">
    <parent link="LHandIndex1Link"/>
    <child link="LHandIndex2Link"/>
    <origin rpy="0.0 0.0 0.0" xyz="-0.0 0.035 0.0"/>
    <axis xyz="-1 0 0"/>
    <limit effort="1" lower="0.0" upper="1.57" velocity="1"/>
  </joint>
  <joint name="LHandIndexLink3" type="revolute">
    <parent link="LHandIndex2Link"/>
    <child link="LHandIndex3Link"/>
    <origin rpy="0.0 0.0 0.0" xyz="-0.0 0.022 0.0"/>
    <axis xyz="-1 0 0"/>
    <limit effort="1" lower="0.0" upper="1.57" velocity="1"/>
  </joint>
  <joint name="LHandMiddleLink1" type="revolute">
    <parent link="LHandLink"/>
    <child link="LHandMiddle1Link"/>
    <origin rpy="0.0 0.0 0.0" xyz="0.02 0.09 -0.01"/>
    <axis xyz="-1 0 0"/>
    <limit effort="1" lower="0.0" upper="1.57" velocity="1"/>
  </joint>
  <joint name="LHandMiddleLink2" type="revolute">
    <parent link="LHandMiddle1Link"/>
    <child link="LHandMiddle2Link"/>
    <origin rpy="0.0 0.0 0.0" xyz="-0.0 0.028 0.0"/>
    <axis xyz="-1 0 0"/>
    <limit effort="1" lower="0.0" upper="1.57" velocity="1"/>
  </joint>
  <joint name="LHandMiddleLink3" type="revolute">
    <parent link="LHandMiddle2Link"/>
    <child link="LHandMiddle3Link"/>
    <origin rpy="0.0 0.0 0.0" xyz="-0.0 0.025 0.0"/>
    <axis xyz="-1 0 0"/>
    <limit effort="1" lower="0.0" upper="1.57" velocity="1"/>
  </joint>
  <joint name="LHandRingLink1" type="revolute">
    <parent link="LHandLink"/>
    <child link="LHandRing1Link"/>
    <origin rpy="0.0 0.0 0.0" xyz="-0.001 0.085 -0.01"/>
    <axis xyz="-1 0 0"/>
    <limit effort="1" lower="0.0" upper="1.57" velocity="1"/>
  </joint>
  <joint name="LHandRingLink2" type="revolute">
    <parent link="LHandRing1Link"/>
    <child link="LHandRing2Link"/>
    <origin rpy="0.0 0.0 0.0" xyz="-0.0 0.0225 0.0"/>
    <axis xyz="-1 0 0"/>
    <limit effort="1" lower="0.0" upper="1.57" velocity="1"/>
  </joint>
  <joint name="LHandRingLink3" type="revolute">
    <parent link="LHandRing2Link"/>
    <child link="LHandRing3Link"/>
    <origin rpy="0.0 0.0 0.0" xyz="-0.0 0.028 0.0"/>
    <axis xyz="-1 0 0"/>
    <limit effort="1" lower="0.0" upper="1.57" velocity="1"/>
  </joint>
  <joint name="LHandBabyLink1" type="revolute">
    <parent link="LHandLink"/>
    <child link="LHandBaby1Link"/>
    <origin rpy="0.0 0.0 0.0" xyz="-0.015 0.079 -0.022"/>
    <axis xyz="-1 0 0"/>
    <limit effort="1" lower="0.0" upper="1.57" velocity="1"/>
  </joint>
  <joint name="LHandBabyLink2" type="revolute">
    <parent link="LHandBaby1Link"/>
    <child link="LHandBaby2Link"/>
    <origin rpy="0.0 0.0 0.0" xyz="-0.0 0.02 0.0"/>
    <axis xyz="-1 0 0"/>
    <limit effort="1" lower="0.0" upper="1.57" velocity="1"/>
  </joint>
  <joint name="LHandBabyLink3" type="revolute">
    <parent link="LHandBaby2Link"/>
    <child link="LHandBaby3Link"/>
    <origin rpy="0.0 0.0 0.0" xyz="-0.0 0.02 0.0"/>
    <axis xyz="-1 0 0"/>
    <limit effort="1" lower="0.0" upper="1.57" velocity="1"/>
  </joint>

  <!-- Right hand finger joints -->
  <joint name="RHandThumbLink0" type="revolute">
    <parent link="RHandLink"/>
    <child link="RHandThumb0Link"/>
    <origin rpy="0.0 0.0 0.0" xyz="0.02 -0.016 -0.016"/>
    <axis xyz="0 1 0"/>
    <limit effort="1" lower="0.0" upper="1.57" velocity="1"/>
  </joint>
  <joint name="RHandThumbLink1" type="revolute">
    <parent link="RHandThumb0Link"/>
    <child link="RHandThumb1Link"/>
    <origin rpy="0.0 0.0 0.0" xyz="0.045 0.0 0.0"/>
    <axis xyz="0 1 0"/>
    <limit effort="1" lower="0.0" upper="1.57" velocity="1"/>
  </joint>
  <joint name="RHandThumbLink2" type="revolute">
    <parent link="RHandThumb1Link"/>
    <child link="RHandThumb2Link"/>
    <origin rpy="0.0 0.0 0.0" xyz="0.026 0.0 0.0"/>
    <axis xyz="0 1 0"/>
    <limit effort="1" lower="0.0" upper="1.57" velocity="1"/>
  </joint>
  <joint name="RHandIndexLink1" type="revolute">
    <parent link="RHandLink"/>
    <child link="RHandIndex1Link"/>
    <origin rpy="0.0 0.0 0.0" xyz="0.0425 -0.078 -0.01"/>
    <axis xyz="-1 0 0"/>
    <limit effort="1" lower="0.0" upper="1.57" velocity="1"/>
  </joint>
  <joint name="RHandIndexLink2" type="revolute">
    <parent link="RHandIndex1Link"/>
    <child link="RHandIndex2Link"/>
    <origin rpy="0.0 0.0 0.0" xyz="-0.0 -0.035 0.0"/>
    <axis xyz="-1 0 0"/>
    <limit effort="1" lower="0.0" upper="1.57" velocity="1"/>
  </joint>
  <joint name="RHandIndexLink3" type="revolute">
    <parent link="RHandIndex2Link"/>
    <child link="RHandIndex3Link"/>
    <origin rpy="0.0 0.0 0.0" xyz="-0.0 -0.022 0.0"/>
    <axis xyz="-1 0 0"/>
    <limit effort="1" lower="0.0" upper="1.57" velocity="1"/>
  </joint>
  <joint name="RHandMiddleLink1" type="revolute">
    <parent link="RHandLink"/>
    <child link="RHandMiddle1Link"/>
    <origin rpy="0.0 0.0 0.0" xyz="0.02 -0.09 -0.01"/>
    <axis xyz="-1 0 0"/>
    <limit effort="1" lower="0.0" upper="1.57" velocity="1"/>
  </joint>
  <joint name="RHandMiddleLink2" type="revolute">
    <parent link="RHandMiddle1Link"/>
    <child link="RHandMiddle2Link"/>
    <origin rpy="0.0 0.0 0.0" xyz="-0.0 -0.028 0.0"/>
    <axis xyz="-1 0 0"/>
    <limit effort="1" lower="0.0" upper="1.57" velocity="1"/>
  </joint>
  <joint name="RHandMiddleLink3" type="revolute">
    <parent link="RHandMiddle2Link"/>
    <child link="RHandMiddle3Link"/>
    <origin rpy="0.0 0.0 0.0" xyz="-0.0 -0.025 0.0"/>
    <axis xyz="-1 0 0"/>
    <limit effort="1" lower="0.0" upper="1.57" velocity="1"/>
  </joint>
  <joint name="RHandRingLink1" type="revolute">
    <parent link="RHandLink"/>
    <child link="RHandRing1Link"/>
    <origin rpy="0.0 0.0 0.0" xyz="-0.001 -0.085 -0.01"/>
    <axis xyz="-1 0 0"/>
    <limit effort="1" lower="0.0" upper="1.57" velocity="1"/>
  </joint>
  <joint name="RHandRingLink2" type="revolute">
    <parent link="RHandRing1Link"/>
    <child link="RHandRing2Link"/>
    <origin rpy="0.0 0.0 0.0" xyz="-0.0 -0.0225 0.0"/>
    <axis xyz="-1 0 0"/>
    <limit effort="1" lower="0.0" upper="1.57" velocity="1"/>
  </joint>
  <joint name="RHandRingLink3" type="revolute">
    <parent link="RHandRing2Link"/>
    <child link="RHandRing3Link"/>
    <origin rpy="0.0 0.0 0.0" xyz="-0.0 -0.028 0.0"/>
    <axis xyz="-1 0 0"/>
    <limit effort="1" lower="0.0" upper="1.57" velocity="1"/>
  </joint>
  <joint name="RHandBabyLink1" type="revolute">
    <parent link="RHandLink"/>
    <child link="RHandBaby1Link"/>
    <origin rpy="0.0 0.0 0.0" xyz="-0.015 -0.079 -0.022"/>
    <axis xyz="-1 0 0"/>
    <limit effort="1" lower="0.0" upper="1.57" velocity="1"/>
  </joint>
  <joint name="RHandBabyLink2" type="revolute">
    <parent link="RHandBaby1Link"/>
    <child link="RHandBaby2Link"/>
    <origin rpy="0.0 0.0 0.0" xyz="-0.0 -0.02 0.0"/>
    <axis xyz="-1 0 0"/>
    <limit effort="1" lower="0.0" upper="1.57" velocity="1"/>
  </joint>
  <joint name="RHandBabyLink3" type="revolute">
    <parent link="RHandBaby2Link"/>
    <child link="RHandBaby3Link"/>
    <origin rpy="0.0 0.0 0.0" xyz="-0.0 -0.02 0.0"/>
    <axis xyz="-1 0 0"/>
    <limit effort="1" lower="0.0" upper="1.57" velocity="1"/>
  </joint>

</robot>
